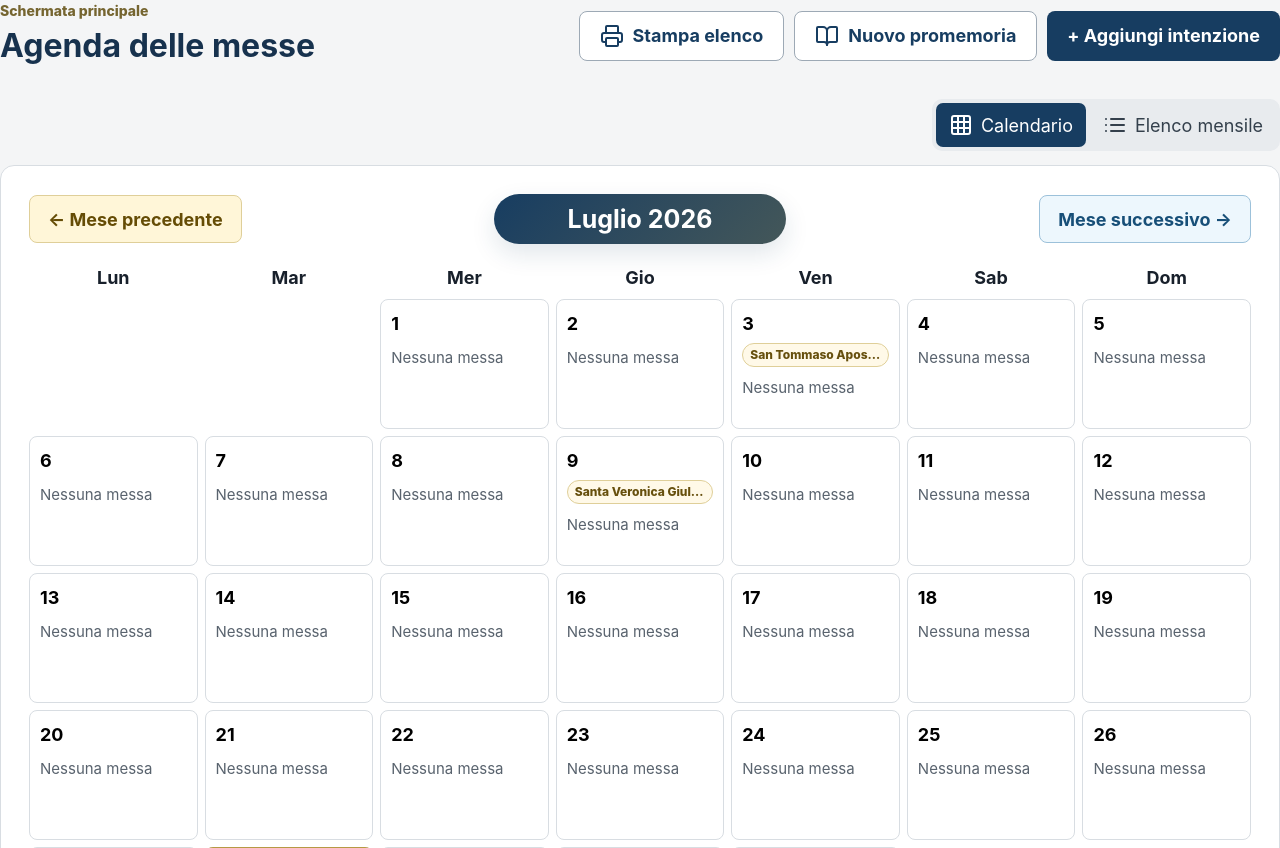
Test: viste e stampa mensile › mostra le intenzioni nella vista elenco mensile
What coordinates should you click on to do the following:
click the button "Elenco mensile"
I would click on:
 (1183, 125)
Its box is [1090, 103, 1276, 147].
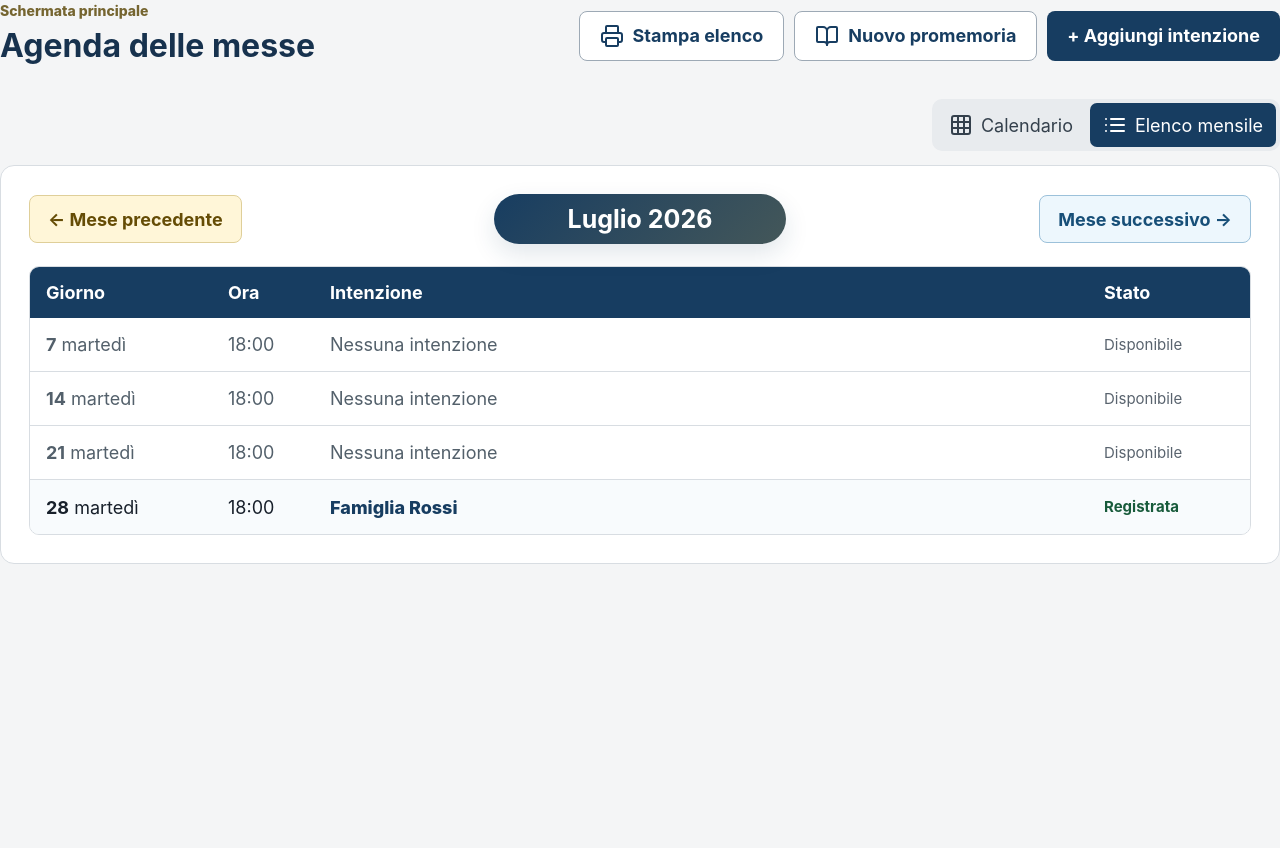
Now the text "Registrata" is shown, box [1104, 497, 1179, 516]
